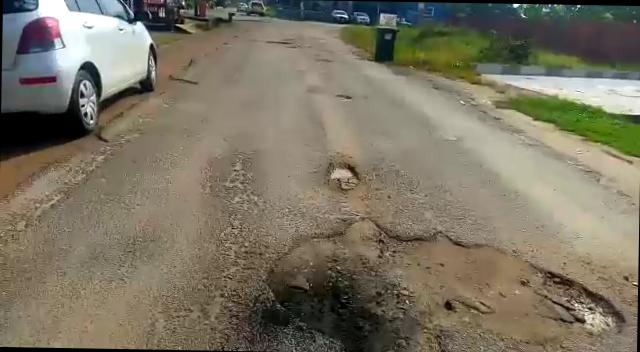pothole: (265, 220, 628, 352), (324, 159, 368, 190)
